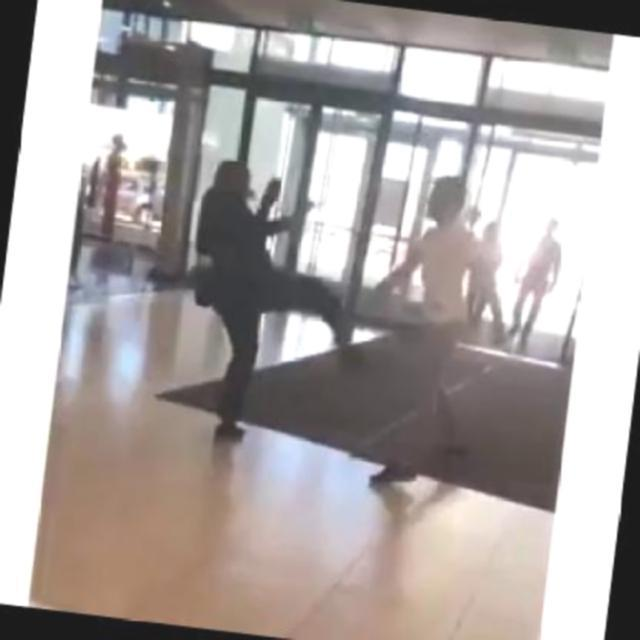fight: (167, 143, 524, 506)
